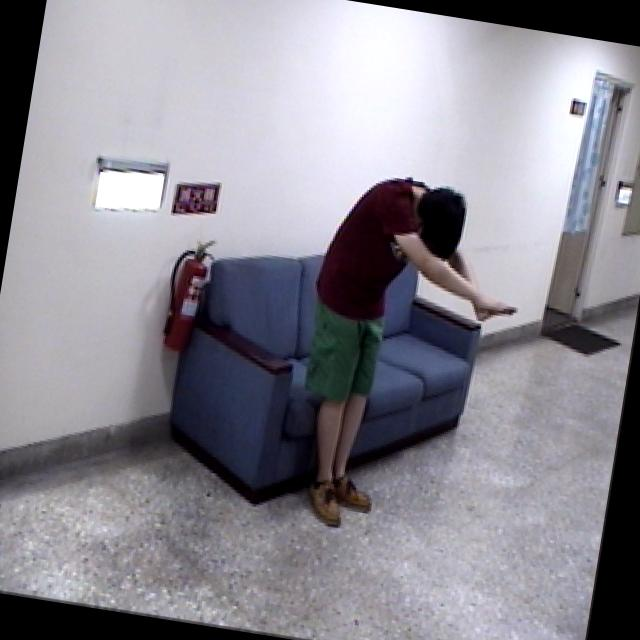bend: (270, 152, 539, 558)
